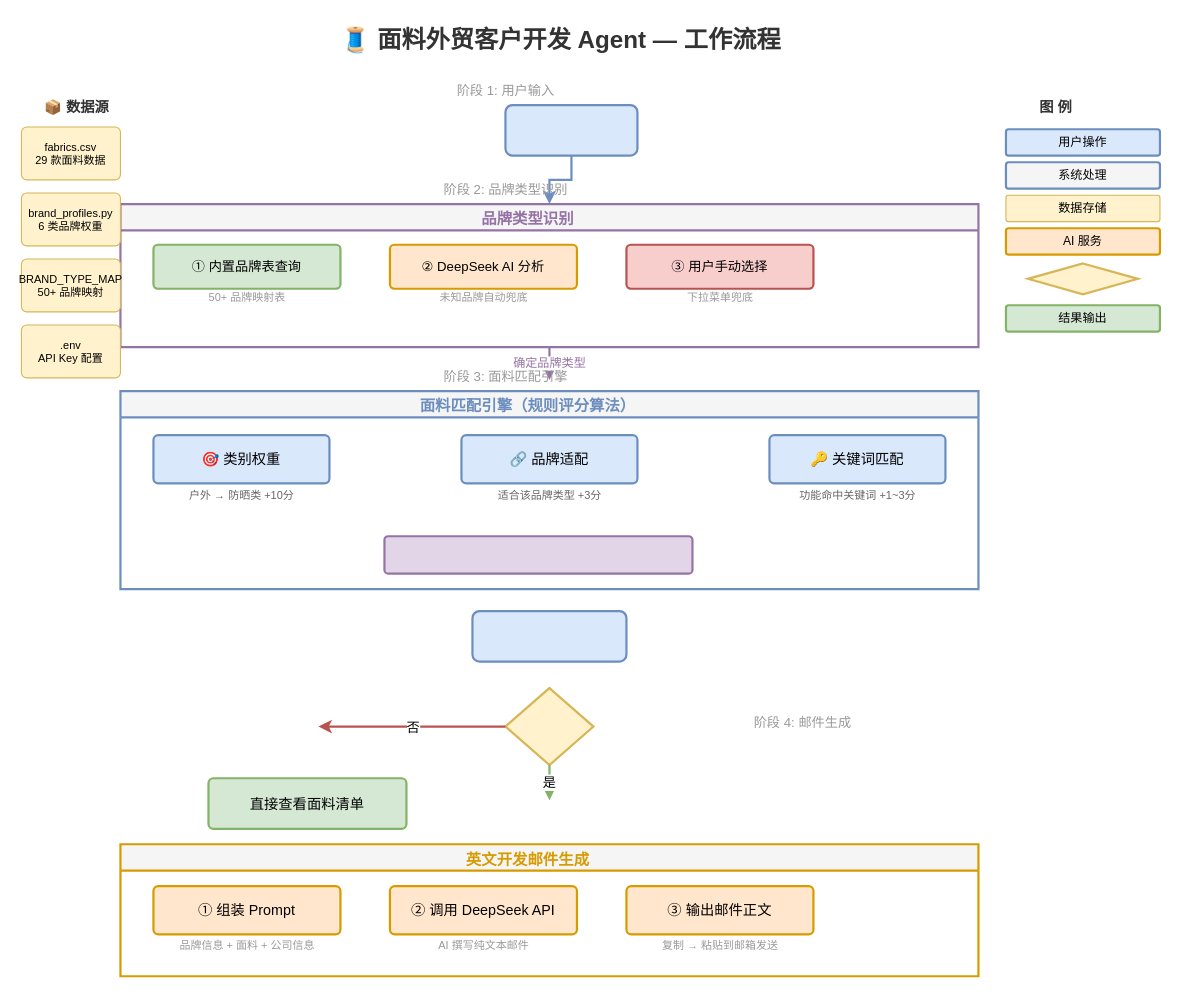
Image size: 1179x996. Some labels were removed from this diagram. Each missing label, with the centre of its shape:
"Σ 加权总分 → 降序排列 → 取 Top 5" goes at pixel 538 554.
"决策分支" goes at pixel 1082 278.
"是否生成 开发邮件?" goes at pixel 549 726.
"输入目标品牌名称" goes at pixel 571 129.
"面料推荐结果（Top 5）" goes at pixel 549 635.
